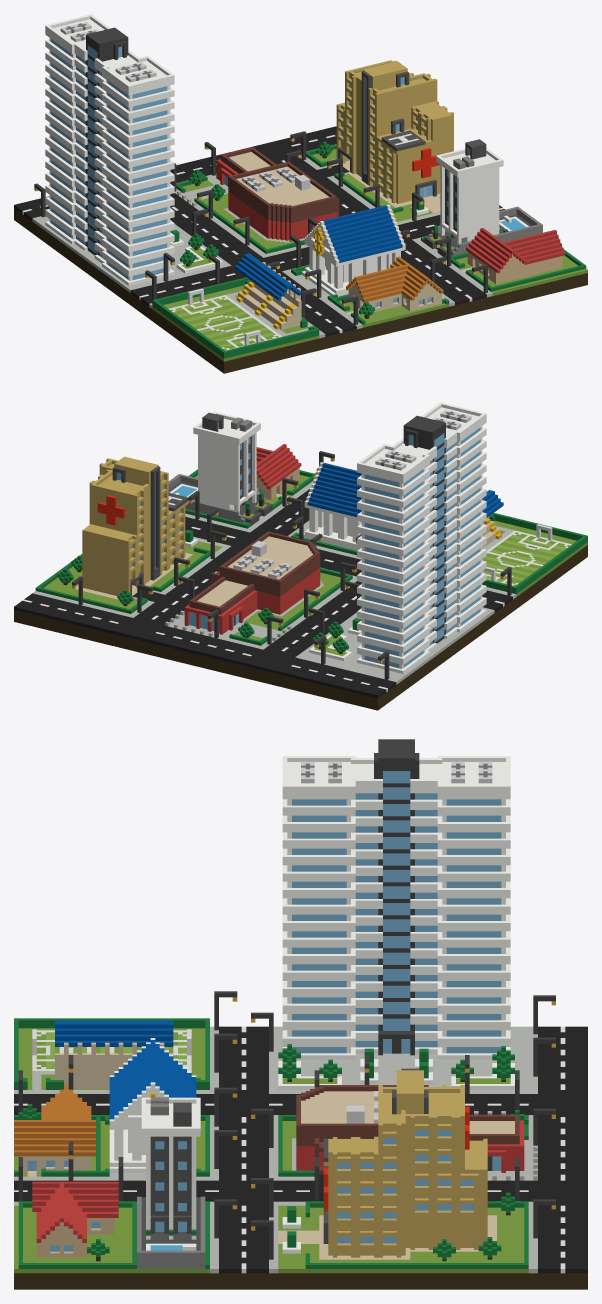
File: city_1.obj
The picture shows the model from 3 angles, top to bottom: view 1: azimuth 30°, elevation 25°; view 2: azimuth 150°, elevation 25°; view 3: azimuth 270°, elevation 25°; orthographic projection. The views are drawn at different scales.
Visible parts, largest first — view 1: city_1; view 2: city_1; view 3: city_1.
Part boxes in pixels (x1,y1,x2,y2): city_1: (14, 14, 587, 373); city_1: (14, 402, 587, 710); city_1: (14, 739, 587, 1289).
Bounding box in the file's own units: 126 × 76 × 126.
Materials: 1 (1 with a texture image).
